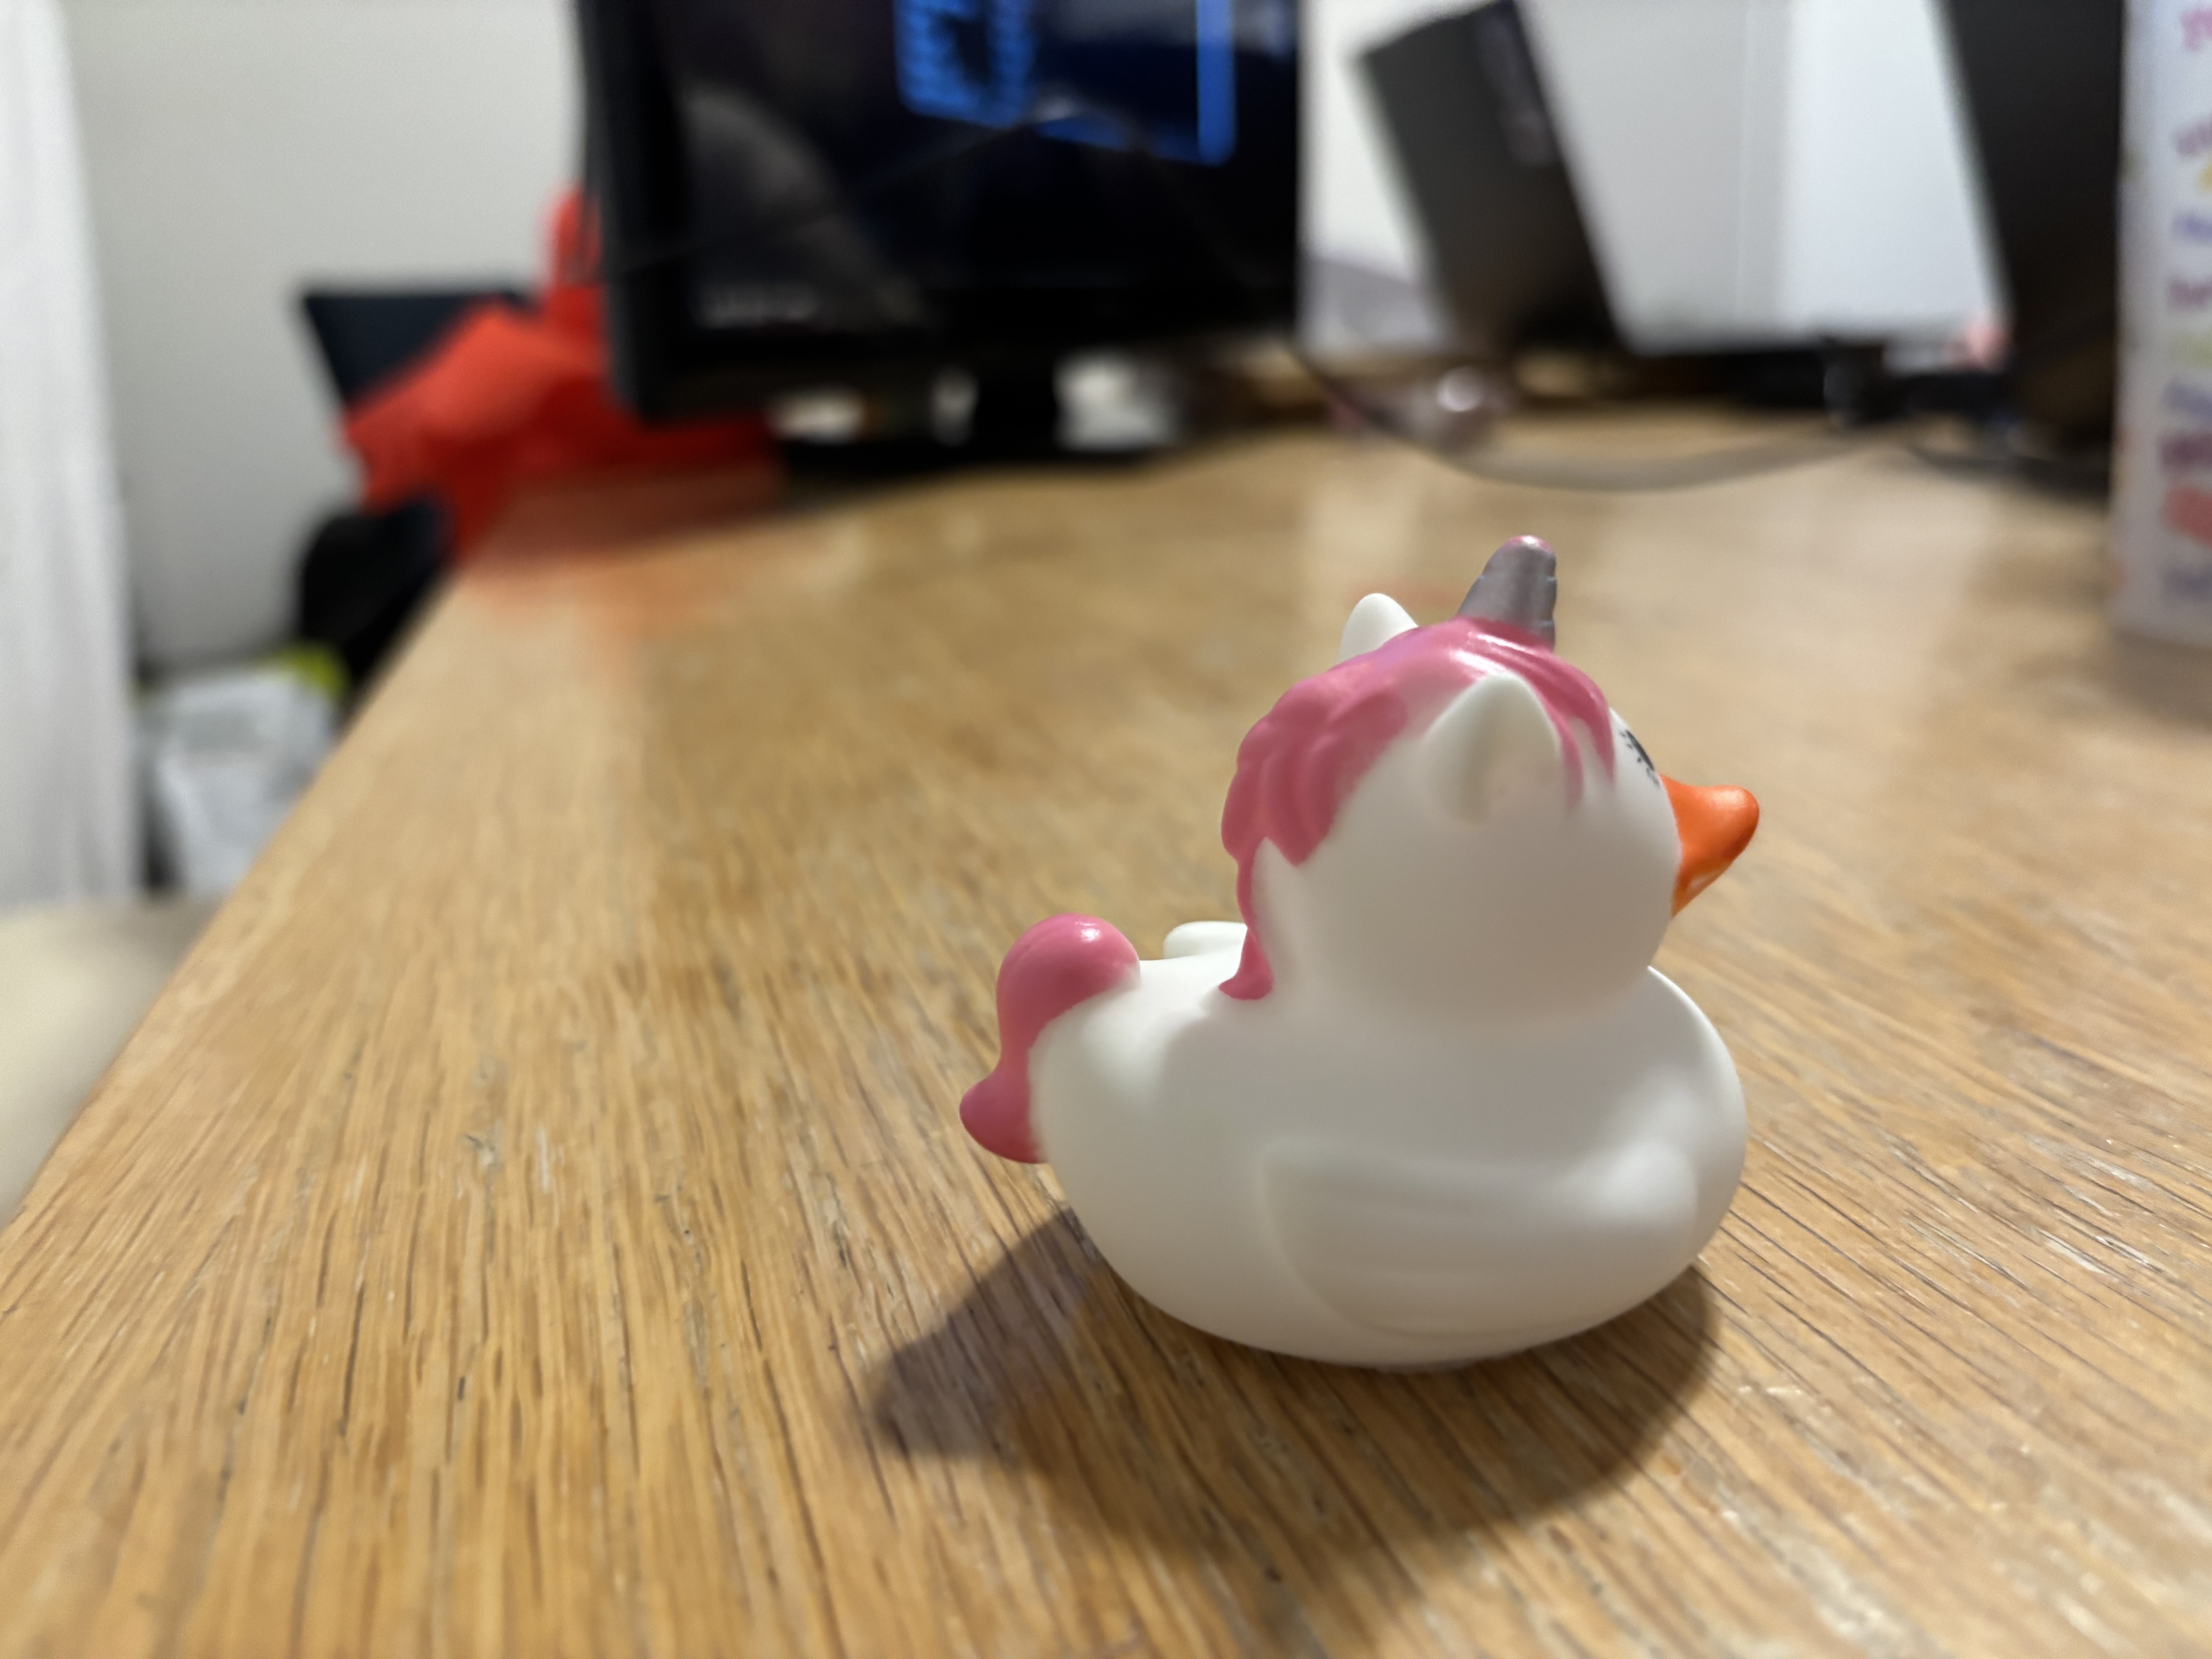Ducks (Specialty): (887, 530, 1794, 1361)
